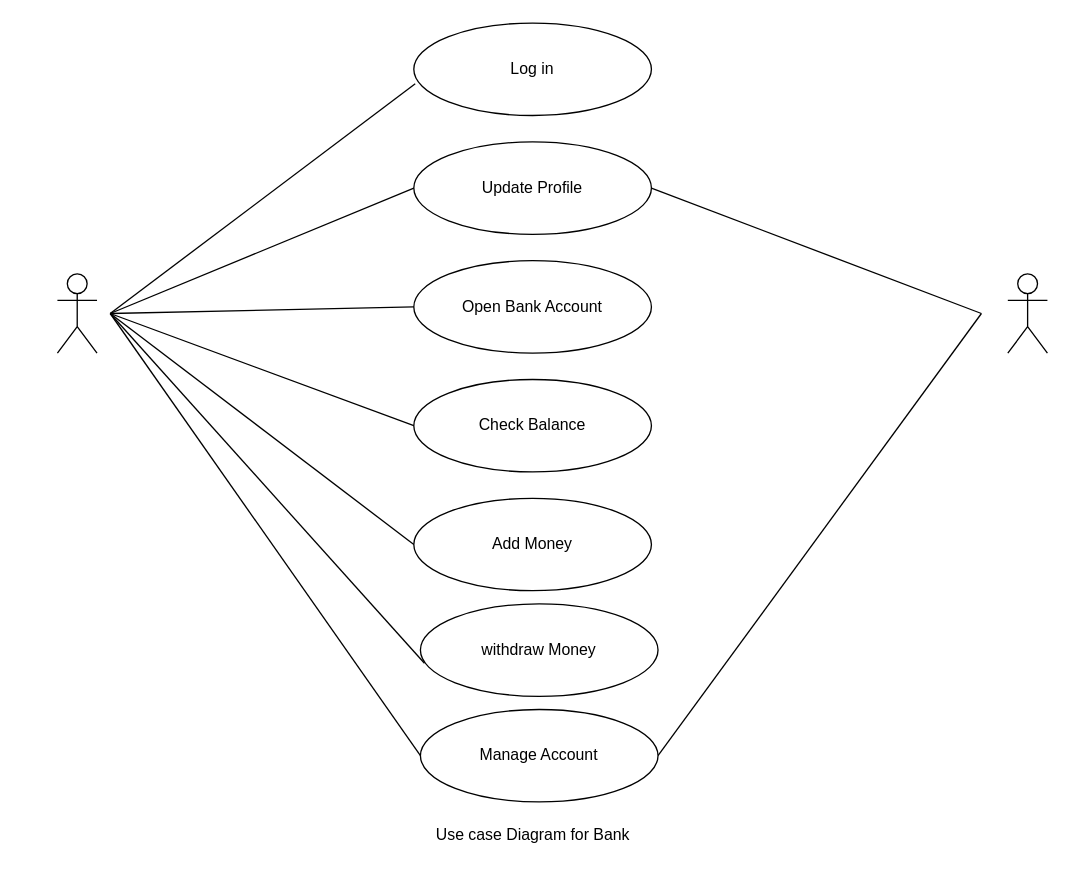
Some shapes in this 1071 by 878 pixel diagram are drawn without their labels. The shapes that lost their labels are listed below. From the top down, each one's centre as x and y in pixels, then its label:
the point at 76,313: Account Holder
the point at 1026,313: Bank
